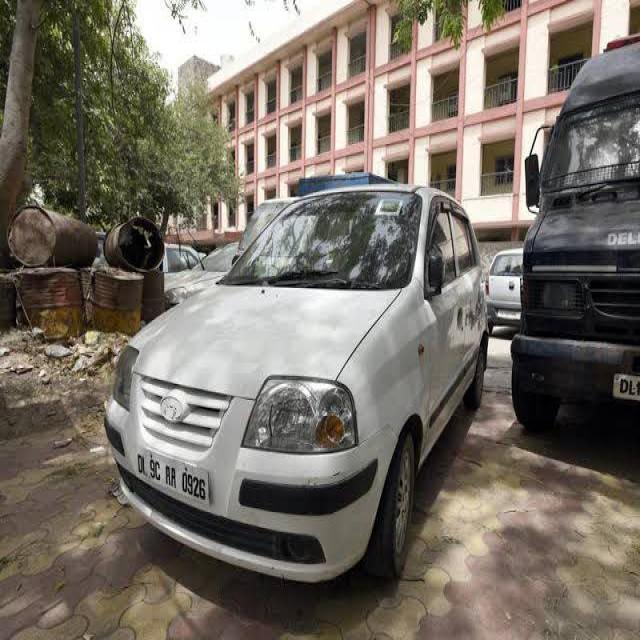Number_Plate_Detected: (127, 440, 215, 516)
